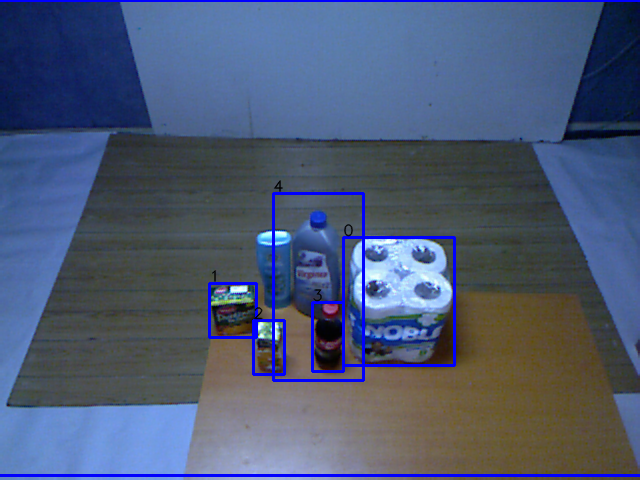balsamo: (251, 226, 295, 312)
cera: (289, 209, 344, 325)
coca: (313, 302, 346, 374)
confort: (343, 235, 453, 368)
durazno: (205, 280, 257, 340)
jugoind: (249, 317, 287, 378)
